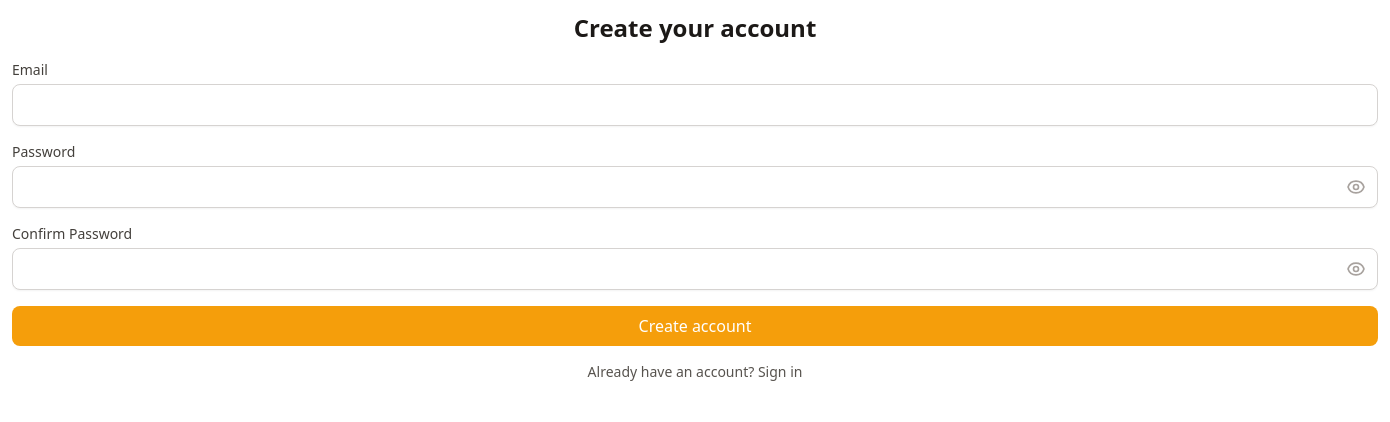
RegisterForm › shows error for invalid email format
The image size is (1390, 422).
Type "not-an-email" into the field labelled "Email". click: (695, 105)
box: [12,84,1378,126]
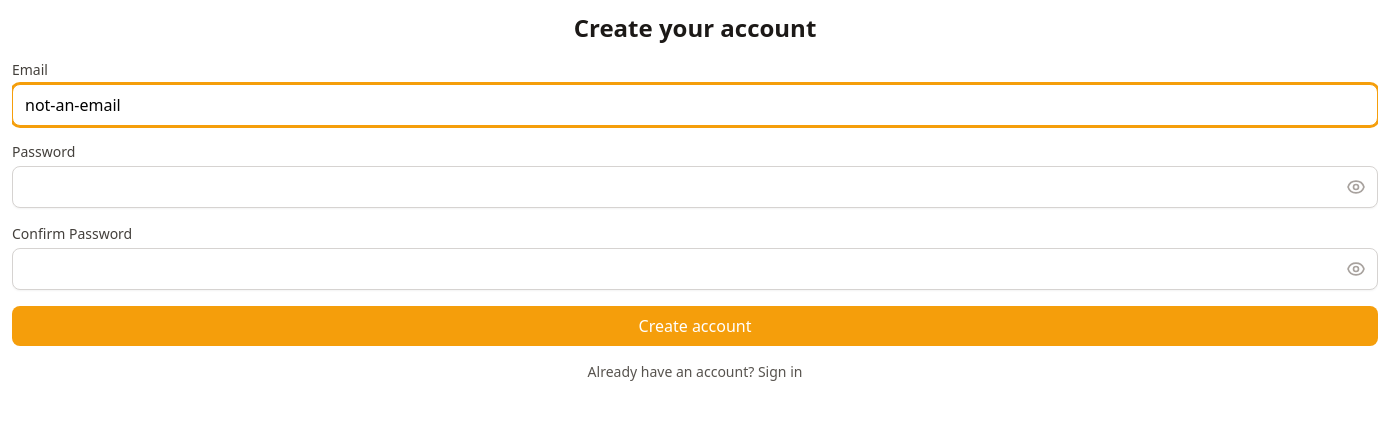
Type "ValidPass1" into the password field labelled "Password". click: (695, 187)
box: [12,166,1378,208]
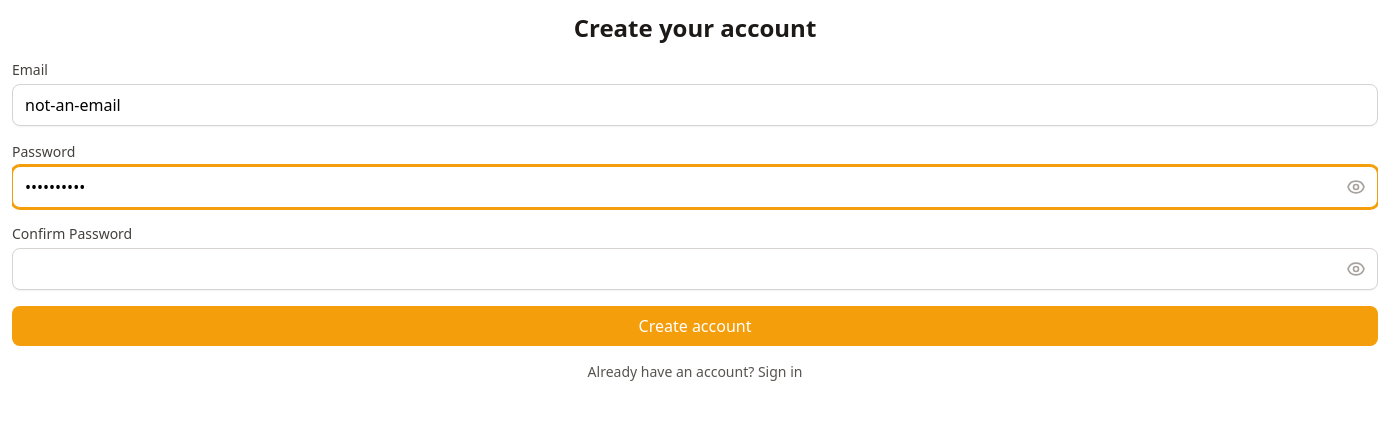
Type "ValidPass1" into the password field labelled "Confirm Password". click: (695, 269)
box: [12,248,1378,290]
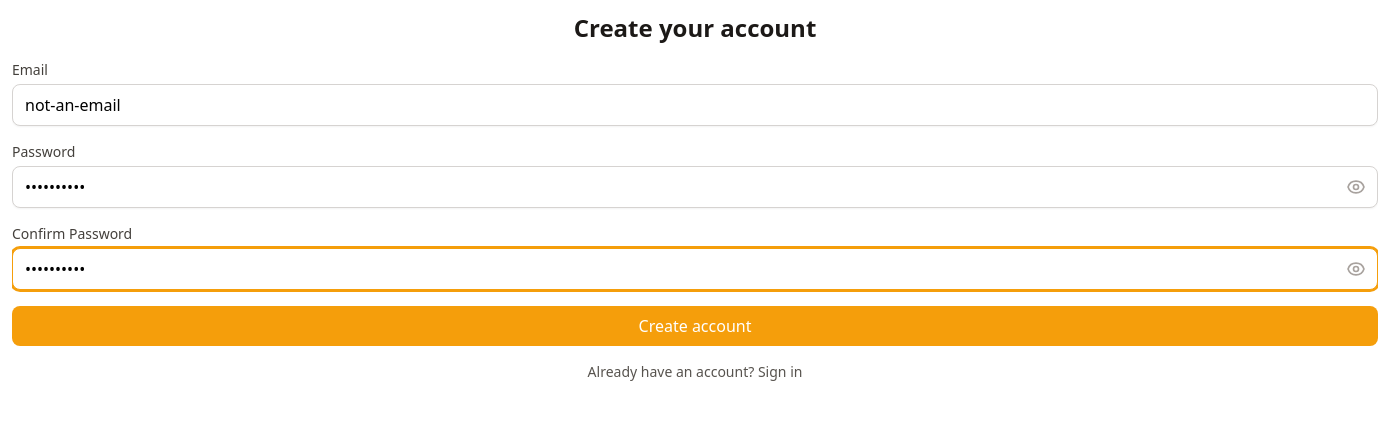
Click the button "Create account". click: (695, 326)
box: [12,306,1378,346]
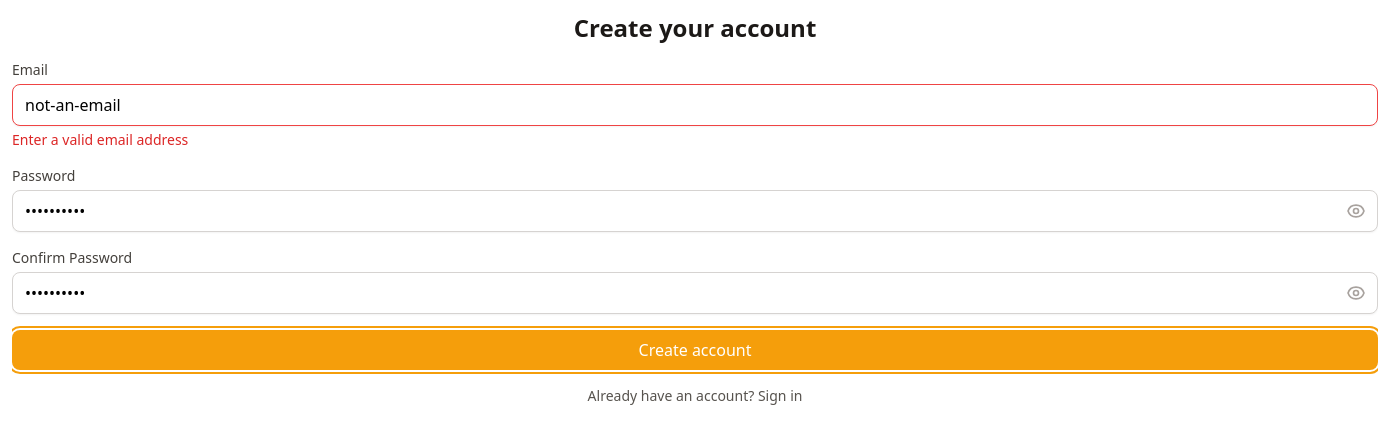
Expected: the text "Enter a valid email address" is shown, [12,130,188,149]
